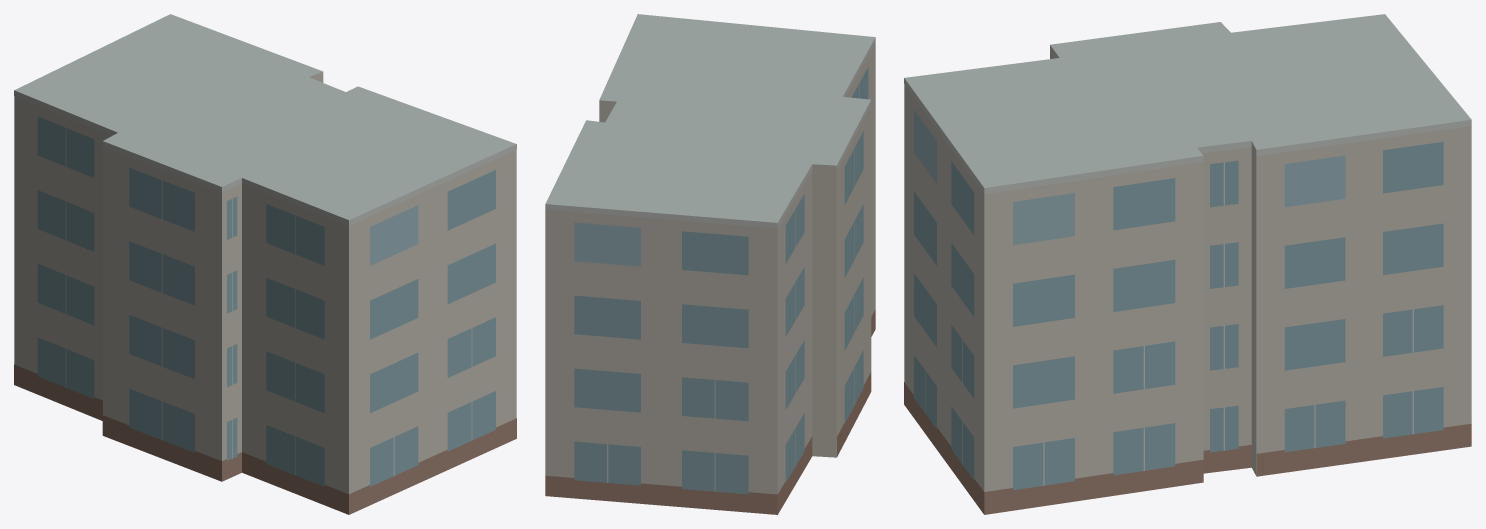
The model's file is survey-upis-32618558.glb.
3 views of the same model, side by side, from view 1: azimuth 30°, elevation 25°; view 2: azimuth 150°, elevation 25°; view 3: azimuth 270°, elevation 25° (orthographic). The views are drawn at different scales.
Parts seen in each view (by area): view 1: survey-upis-32618558.tmp; view 2: survey-upis-32618558.tmp; view 3: survey-upis-32618558.tmp.
Part boxes in pixels (box(x1,y1,x2,y2)): survey-upis-32618558.tmp: box(14, 14, 516, 514); survey-upis-32618558.tmp: box(545, 14, 875, 514); survey-upis-32618558.tmp: box(904, 14, 1471, 514).
Bounding box in the file's own units: 14.64 × 12.8 × 20.16.
